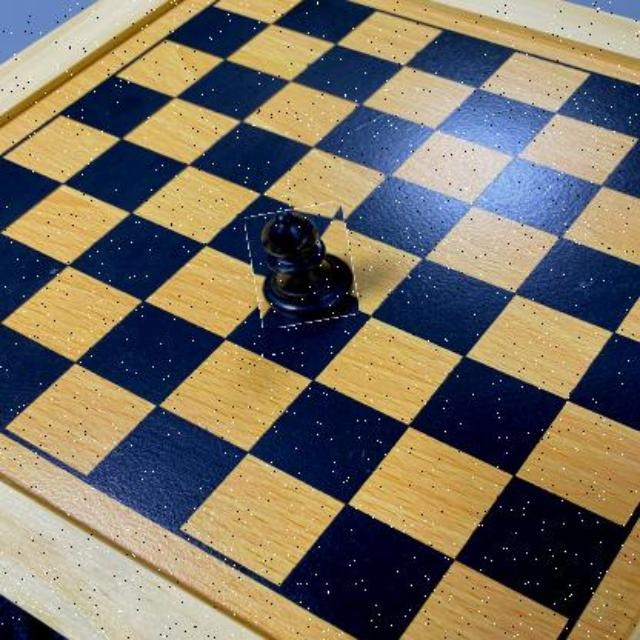black-bishop: (249, 205, 355, 326)
